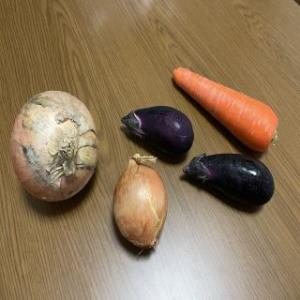carrot: (172, 68, 286, 152)
eggplant: (184, 150, 274, 212), (119, 104, 197, 158)
onion: (10, 88, 102, 208), (113, 158, 169, 254)
